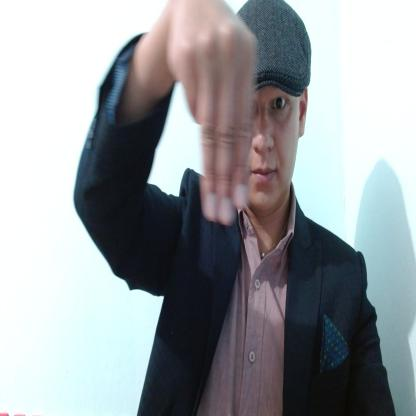M: (164, 0, 258, 225)
